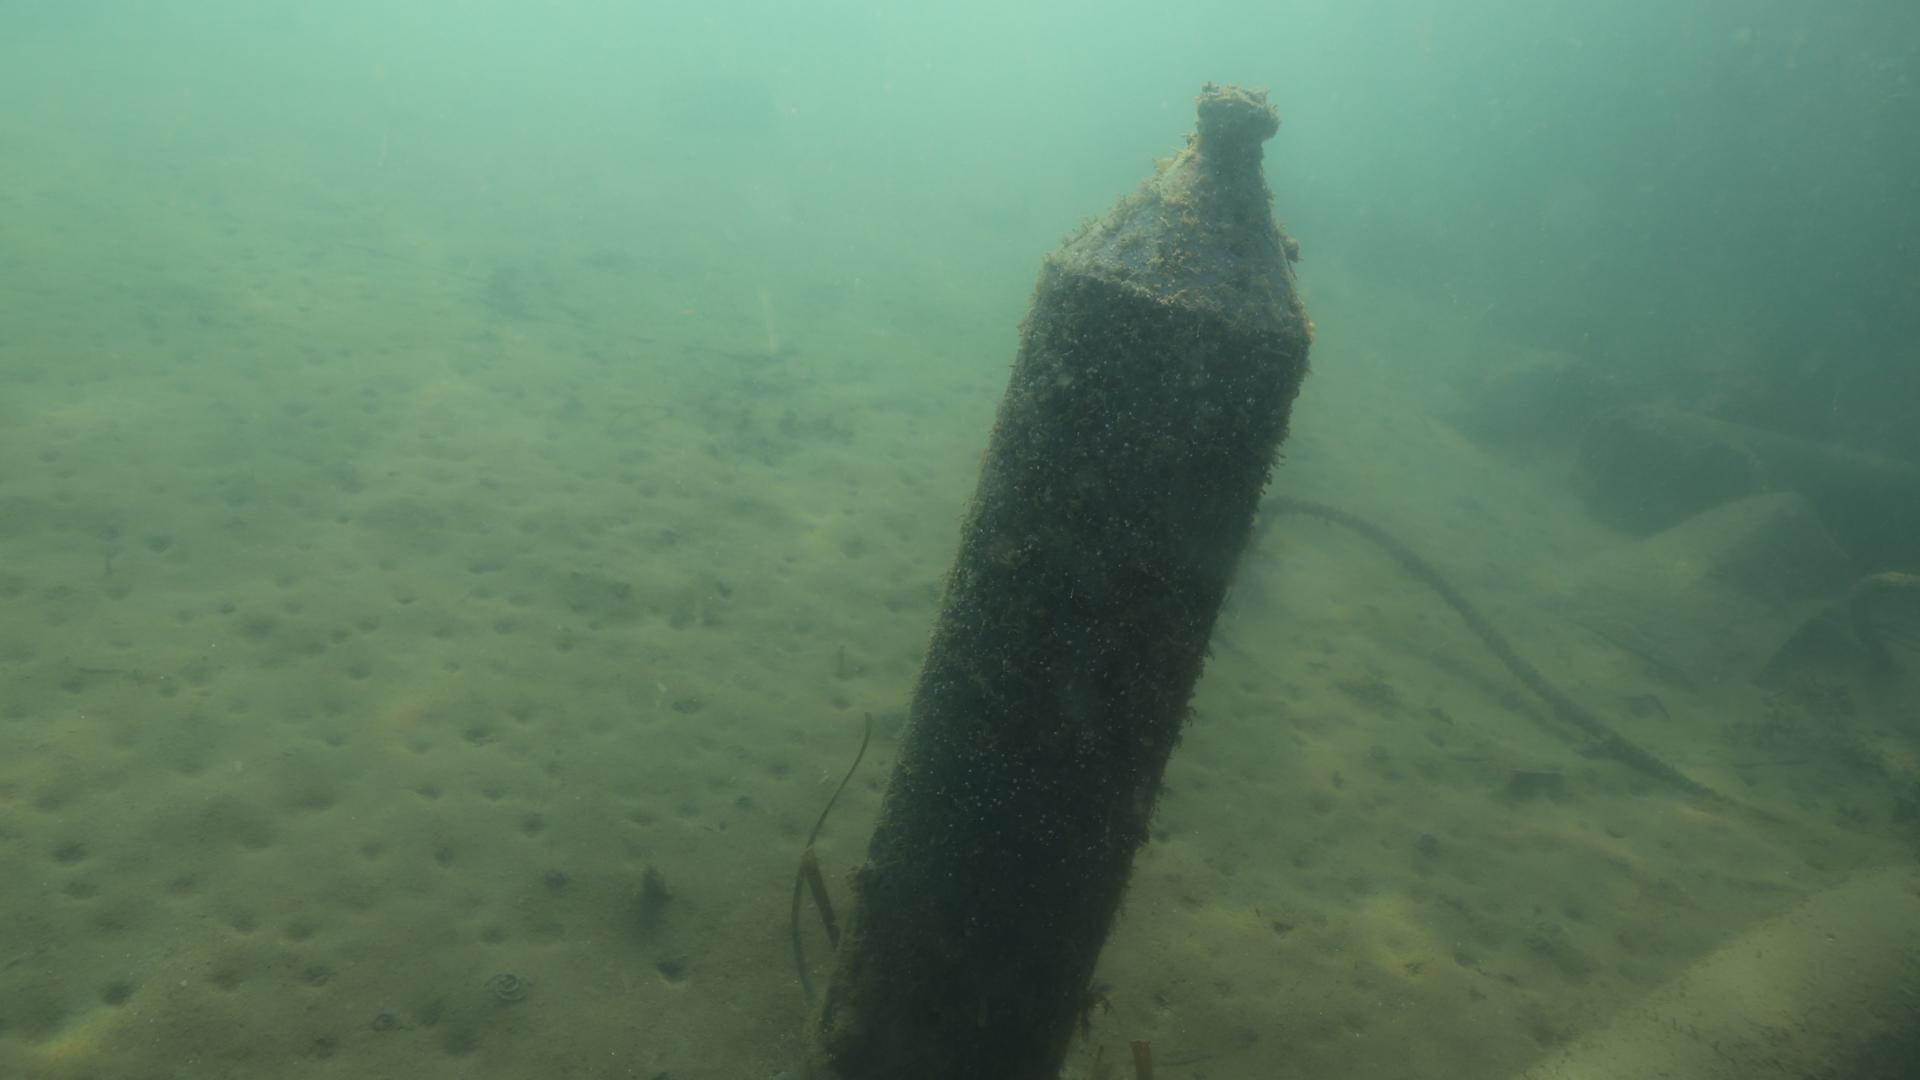eel fish trap: (810, 88, 1313, 1080)
